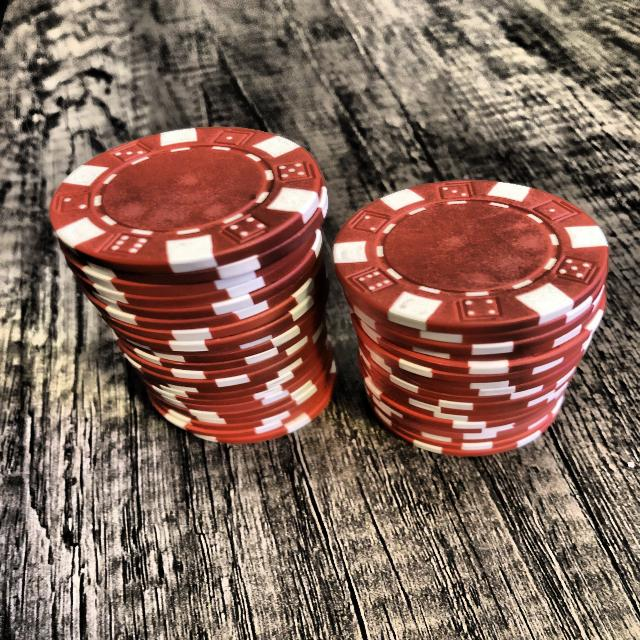Chip: (45, 125, 338, 445), (330, 176, 614, 461)
